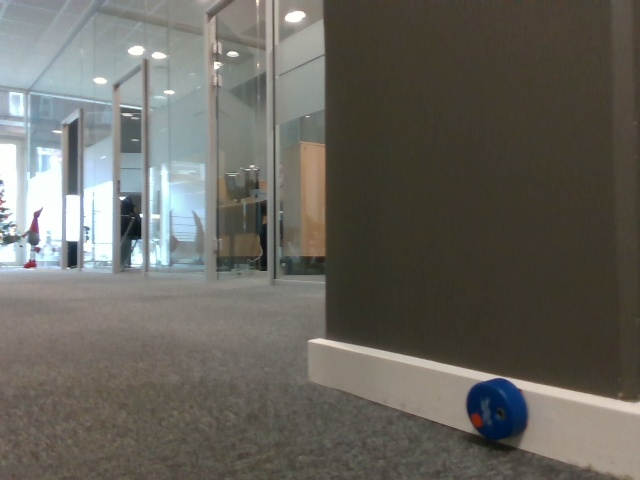alfa: (464, 376, 531, 451)
